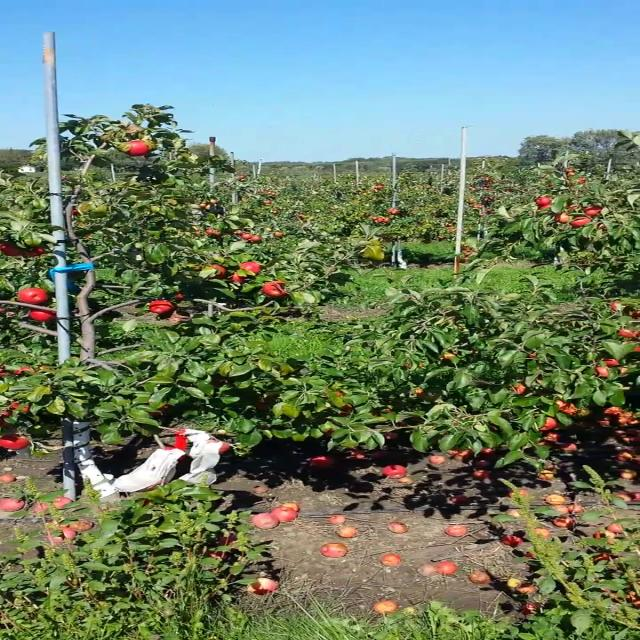apple: (0, 433, 29, 450), (18, 288, 47, 304), (262, 280, 286, 298), (124, 140, 148, 156), (146, 404, 170, 416), (148, 301, 170, 313), (8, 402, 29, 414), (1, 243, 21, 255), (28, 310, 52, 320), (538, 416, 556, 429), (24, 246, 44, 257), (336, 404, 354, 416), (240, 261, 259, 272), (208, 264, 225, 276), (0, 409, 12, 426), (570, 216, 590, 226), (583, 205, 602, 215), (616, 328, 635, 338), (256, 397, 268, 412), (534, 196, 551, 206), (439, 352, 456, 362), (596, 366, 610, 378), (371, 408, 392, 416), (219, 442, 231, 456), (554, 212, 570, 222), (555, 398, 566, 412), (14, 366, 33, 374), (514, 382, 526, 394), (229, 272, 243, 282), (0, 362, 9, 377), (628, 307, 639, 319), (319, 391, 342, 396), (608, 301, 618, 311), (538, 204, 554, 210), (602, 359, 618, 365), (323, 427, 334, 435), (631, 330, 639, 340), (173, 292, 183, 298), (633, 346, 639, 352), (530, 352, 535, 358)
